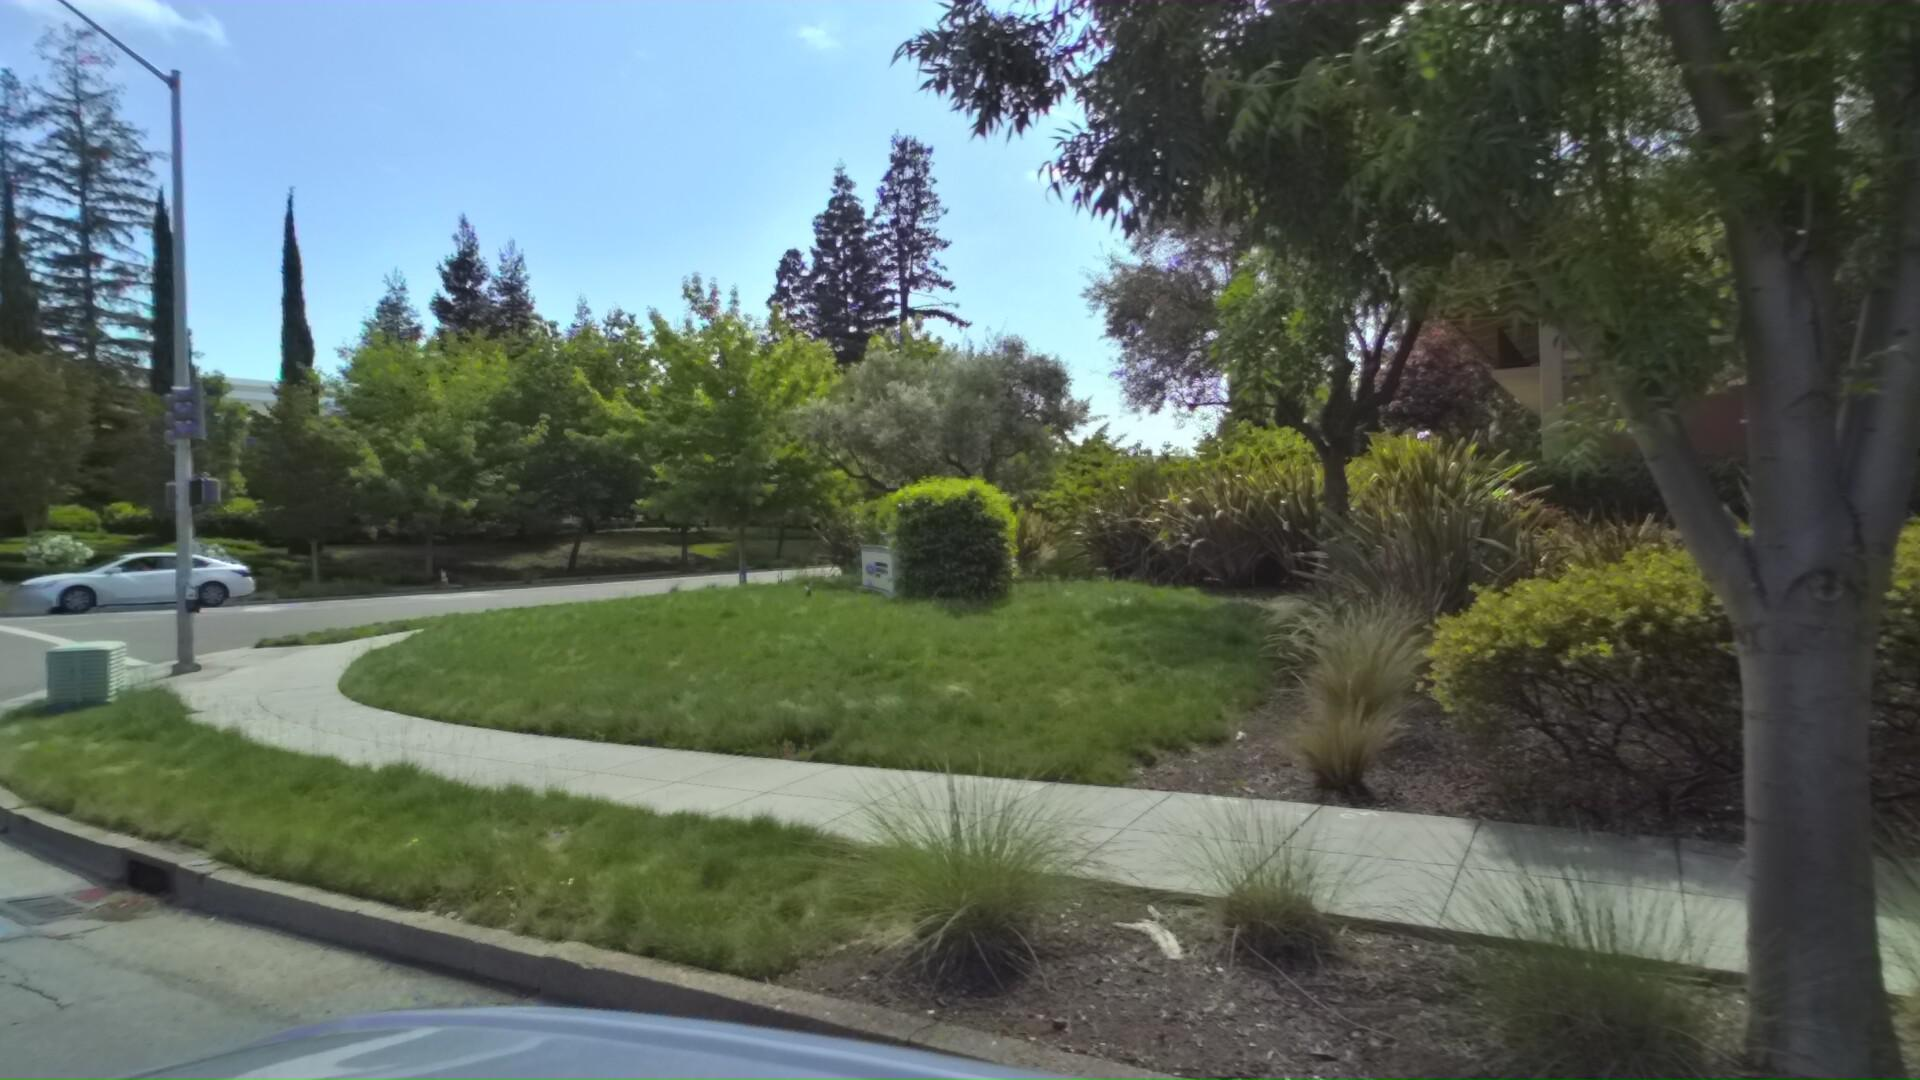car: (0, 537, 255, 615)
